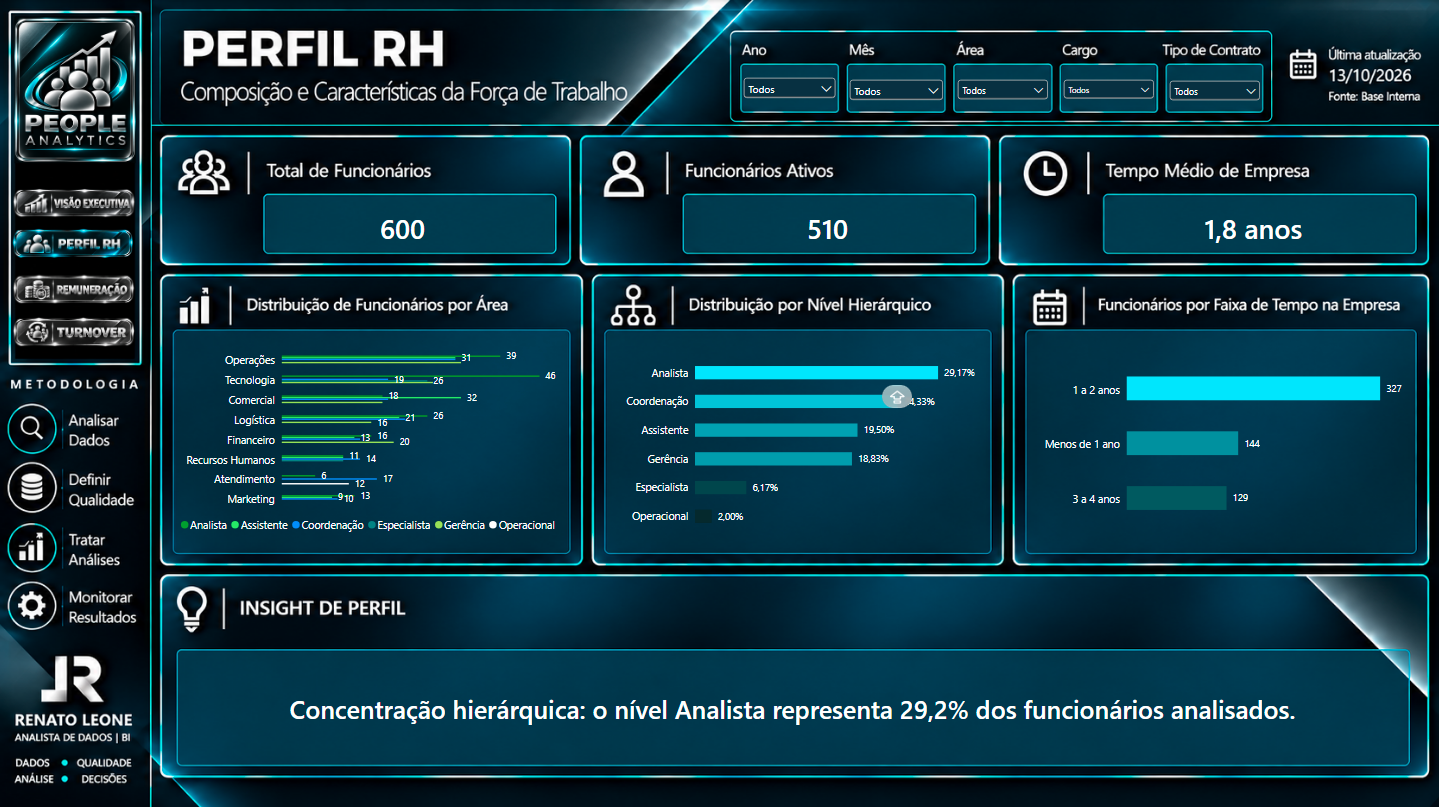

The dashboard page shown, as its layout file describes it:
{"tool":"powerbi","page":{"name":"PERFIL RH","canvas":[1920,1080],"ordinal":1},"visuals":[{"type":"image","box":[14,228,173,83],"z":0},{"type":"image","box":[12,285,175,76],"z":1000},{"type":"image","box":[15,345,172,79],"z":2000},{"type":"image","box":[15,407,170,67],"z":3000},{"type":"image","box":[12.3,23.1,180.8,194.6],"z":4000},{"type":"slicer","fields":{"Values":["funcionarios.area"]},"box":[1271.3,101.7,129.6,42.6],"z":4001},{"type":"slicer","fields":{"Values":["funcionarios.cargo_reduzido"]},"box":[1412.2,101.7,129.6,42.6],"z":4002},{"type":"slicer","fields":{"Values":["funcionarios.tipo_contrato"]},"box":[1553.3,102,130,42.7],"z":4003},{"type":"slicer","fields":{"Values":["dim_calendario.mes_nome_PT"]},"box":[1127.7,101.5,133.8,42.3],"z":4004},{"type":"slicer","fields":{"Values":["dim_calendario.ano"]},"box":[986.9,98.5,132.3,42.3],"z":4005},{"type":"cardVisual","fields":{"Data":["Medidas.Total Funcionario"]},"box":[473.3,260,129.9,85.7],"z":4006},{"type":"cardVisual","fields":{"Data":["Medidas.Funcionários Ativos"]},"box":[1038.7,260,129.9,85.7],"z":4007},{"type":"clusteredBarChart","fields":{"Category":["funcionarios.Faixa Tempo de Empresa"],"Y":["CountNonNull(funcionarios.id_funcionario)"]},"box":[1369.3,449.3,513.3,278.7],"z":4008},{"type":"clusteredBarChart","fields":{"Category":["funcionarios.area"],"Series":["funcionarios.nivel"],"Y":["Count(funcionarios.id_funcionario)"]},"box":[226.7,440,540,288],"z":4009},{"type":"clusteredBarChart","fields":{"Category":["funcionarios.nivel"],"Y":["CountNonNull(funcionarios.id_funcionario)"]},"box":[813.3,449.3,501.3,278.7],"z":4010},{"type":"cardVisual","fields":{"Data":["Medidas.Insight de Perfil"]},"box":[245.3,870.7,1624,142.7],"z":4011},{"type":"cardVisual","fields":{"Data":["Medidas.Tempo Médio de Empresa"]},"box":[1541.3,260,256,85.3],"z":4012}]}

Visuals, with their boxes in screenshot pixels (x1, y1, x2, y2), scaled from the page's 1920x1080 canvas onto the 1439x807 screenshot:
image: {"x1": 10, "y1": 170, "x2": 140, "y2": 232}
image: {"x1": 9, "y1": 213, "x2": 140, "y2": 270}
image: {"x1": 11, "y1": 258, "x2": 140, "y2": 317}
image: {"x1": 11, "y1": 304, "x2": 139, "y2": 354}
image: {"x1": 9, "y1": 17, "x2": 145, "y2": 163}
slicer - funcionarios.area: {"x1": 953, "y1": 76, "x2": 1050, "y2": 108}
slicer - funcionarios.cargo_reduzido: {"x1": 1058, "y1": 76, "x2": 1156, "y2": 108}
slicer - funcionarios.tipo_contrato: {"x1": 1164, "y1": 76, "x2": 1262, "y2": 108}
slicer - dim_calendario.mes_nome_PT: {"x1": 845, "y1": 76, "x2": 945, "y2": 107}
slicer - dim_calendario.ano: {"x1": 740, "y1": 74, "x2": 839, "y2": 105}
cardVisual - Medidas.Total Funcionario: {"x1": 355, "y1": 194, "x2": 452, "y2": 258}
cardVisual - Medidas.Funcionários Ativos: {"x1": 778, "y1": 194, "x2": 876, "y2": 258}
clusteredBarChart - funcionarios.Faixa Tempo de Empresa x CountNonNull(funcionarios.id_funcionario): {"x1": 1026, "y1": 336, "x2": 1411, "y2": 544}
clusteredBarChart - funcionarios.area x funcionarios.nivel: {"x1": 170, "y1": 329, "x2": 575, "y2": 544}
clusteredBarChart - funcionarios.nivel x CountNonNull(funcionarios.id_funcionario): {"x1": 610, "y1": 336, "x2": 985, "y2": 544}
cardVisual - Medidas.Insight de Perfil: {"x1": 184, "y1": 651, "x2": 1401, "y2": 757}
cardVisual - Medidas.Tempo Médio de Empresa: {"x1": 1155, "y1": 194, "x2": 1347, "y2": 258}
